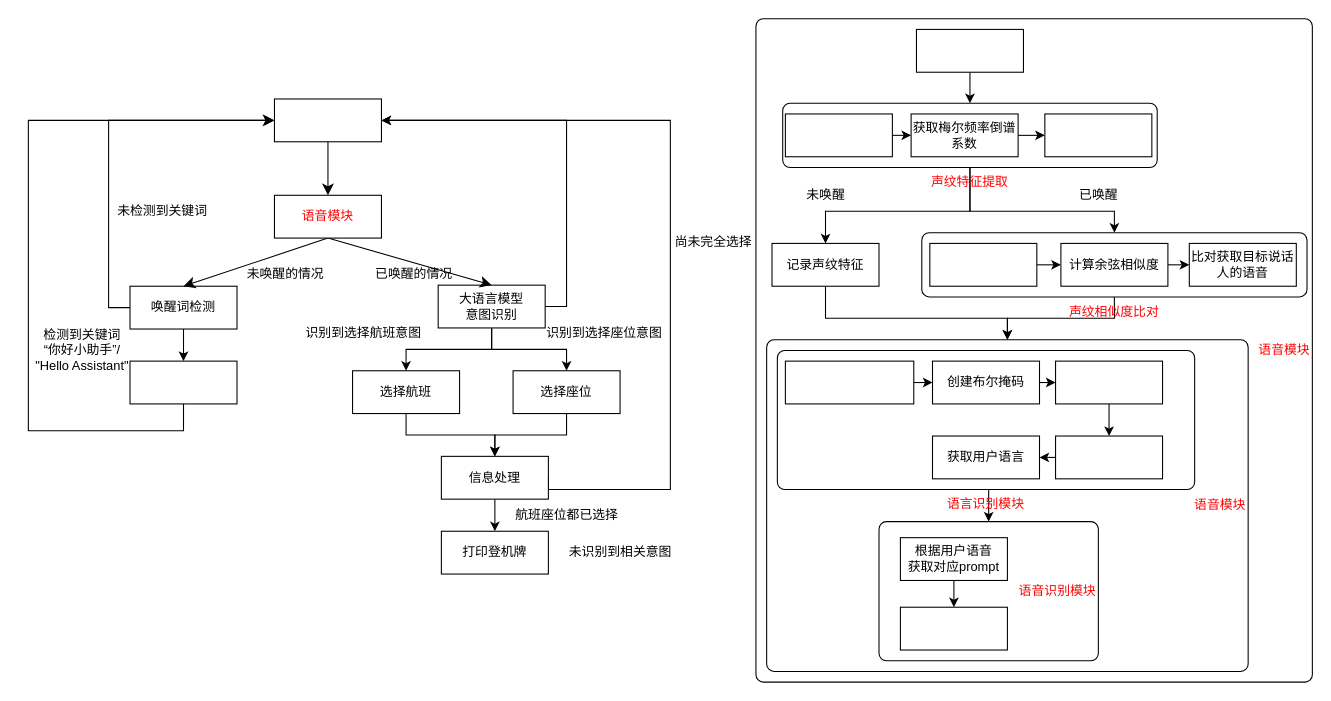
This 1331x701 diagram has some shape labels left out. The shapes that lost their labels are listed below. From the top down, each one's centre as x and y in pixels, then its label:
[969,50]: 去噪模块
[327,120]: 用户输入
[838,135]: 音频数据分帧
[1098,135]: 计算声纹向量
[983,264]: 获取已记录的 声纹特征
[183,382]: 唤醒系统
[849,382]: 创建对数梅尔频谱图
[1108,382]: softmax 操作
[1108,457]: 转换概率分布
[953,628]: 根据梅尔频谱 解码音频数据
